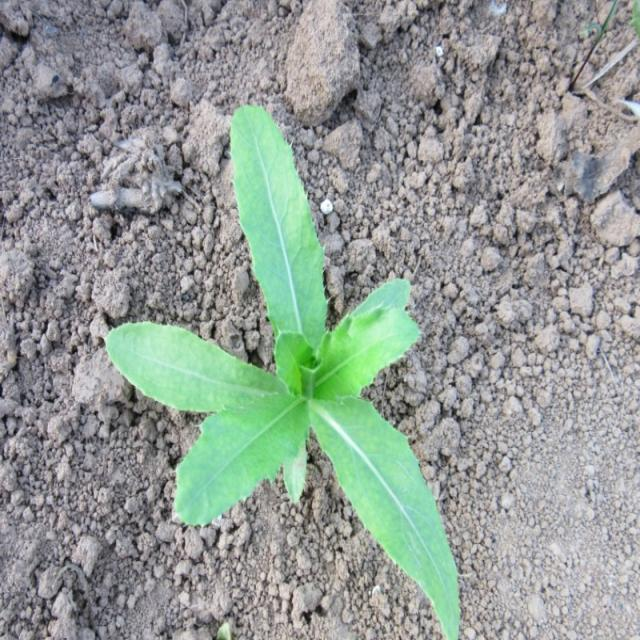cs: (105, 103, 465, 640)
